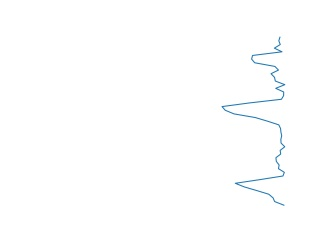underwaterNaturalLevee: (220, 36, 290, 207)
